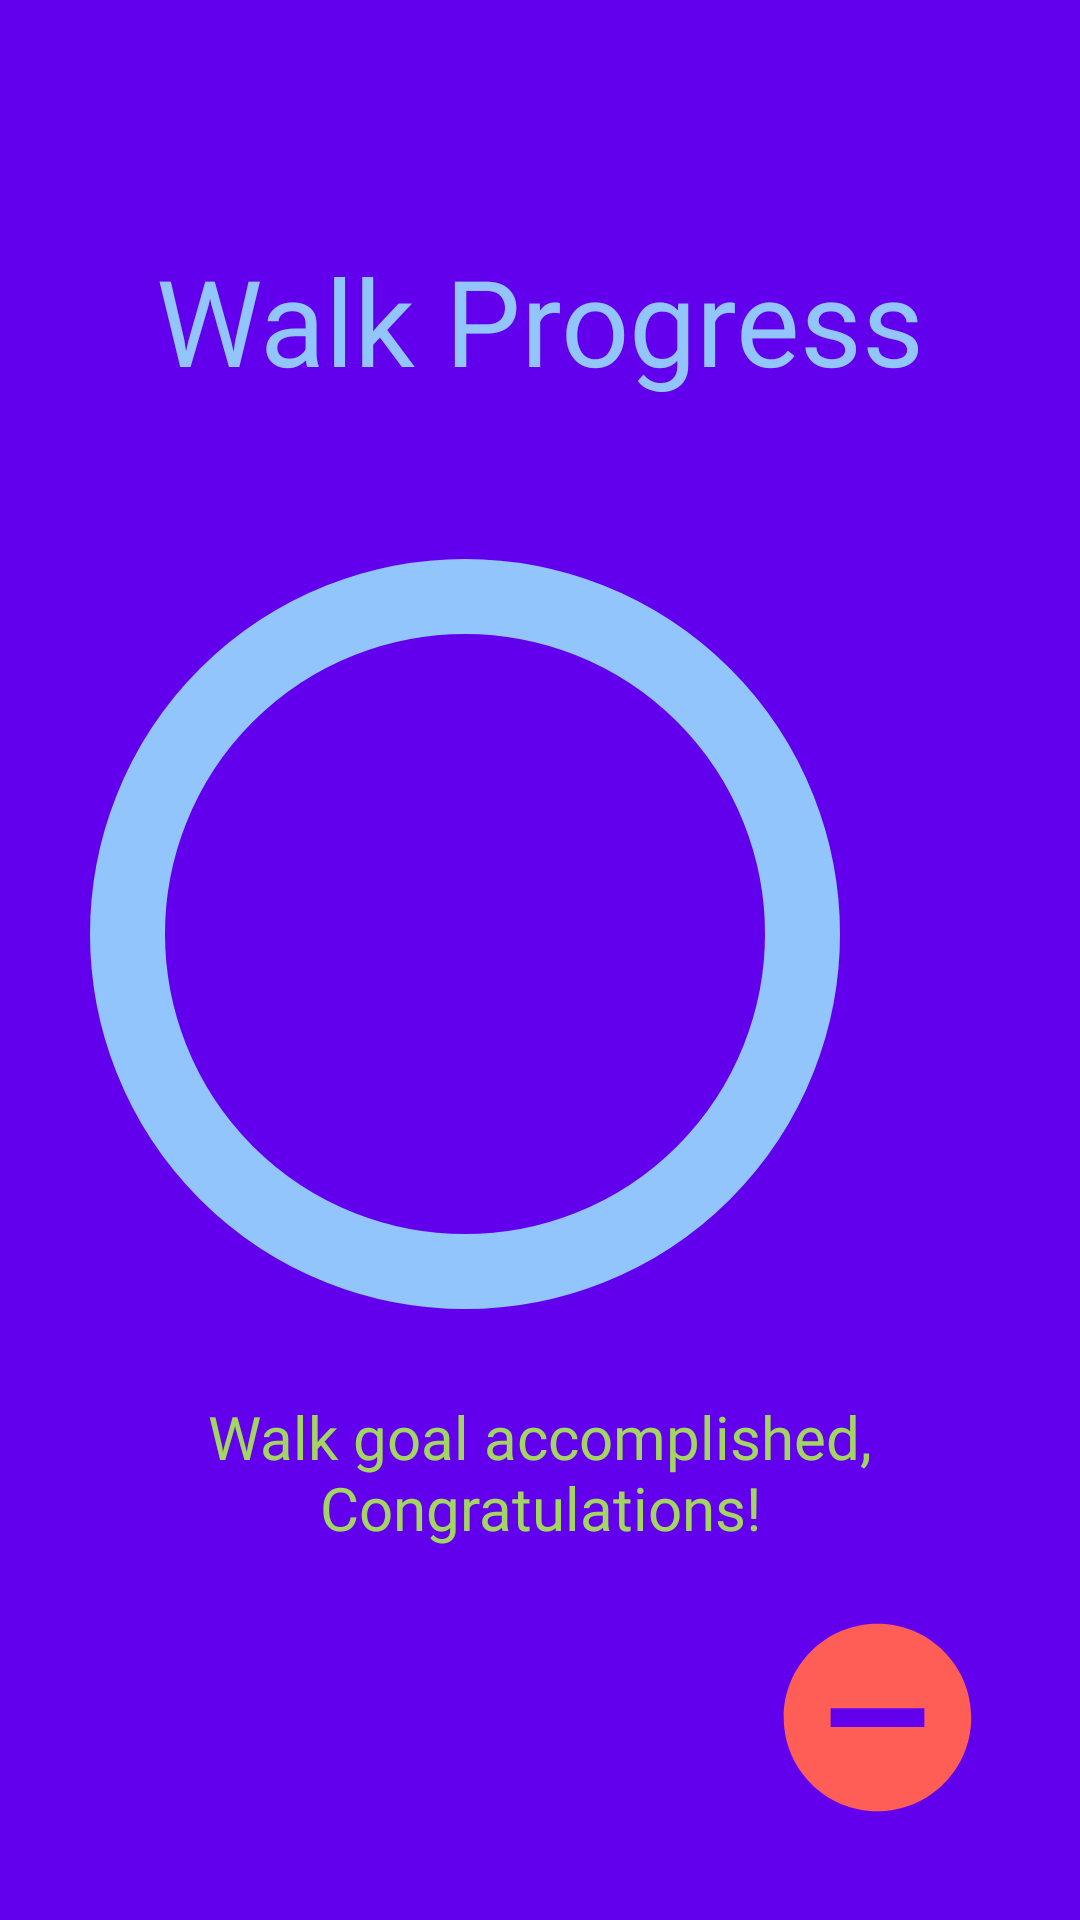

Screen size 1080w x 1920h. Icon name, then its center in pixels as point (x, y):
remove circle: point (877, 1717)
